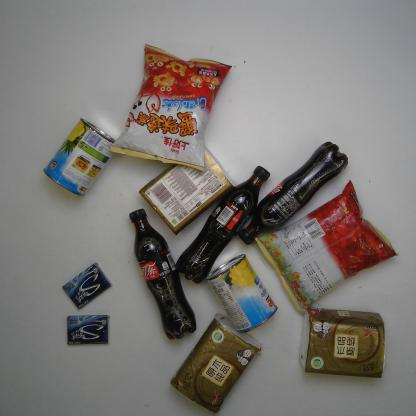Canned Food: (204, 253, 282, 334), (42, 118, 119, 199)
Drink: (236, 140, 352, 246), (174, 163, 272, 286), (122, 206, 198, 342)
Gum: (60, 260, 122, 310), (64, 311, 112, 348)
Puffed Food: (255, 177, 402, 310), (113, 39, 232, 171)
Tissue: (168, 310, 265, 415), (136, 142, 236, 243), (298, 304, 388, 382)
